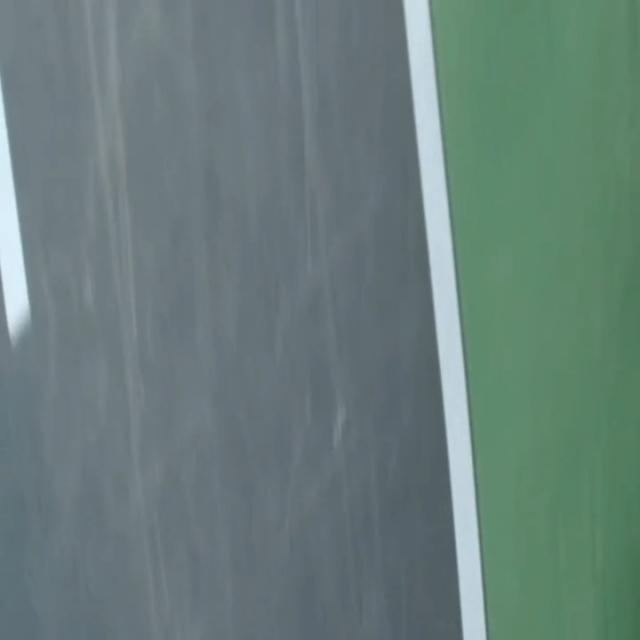center: (0, 77, 29, 343)
right: (404, 0, 486, 639)
